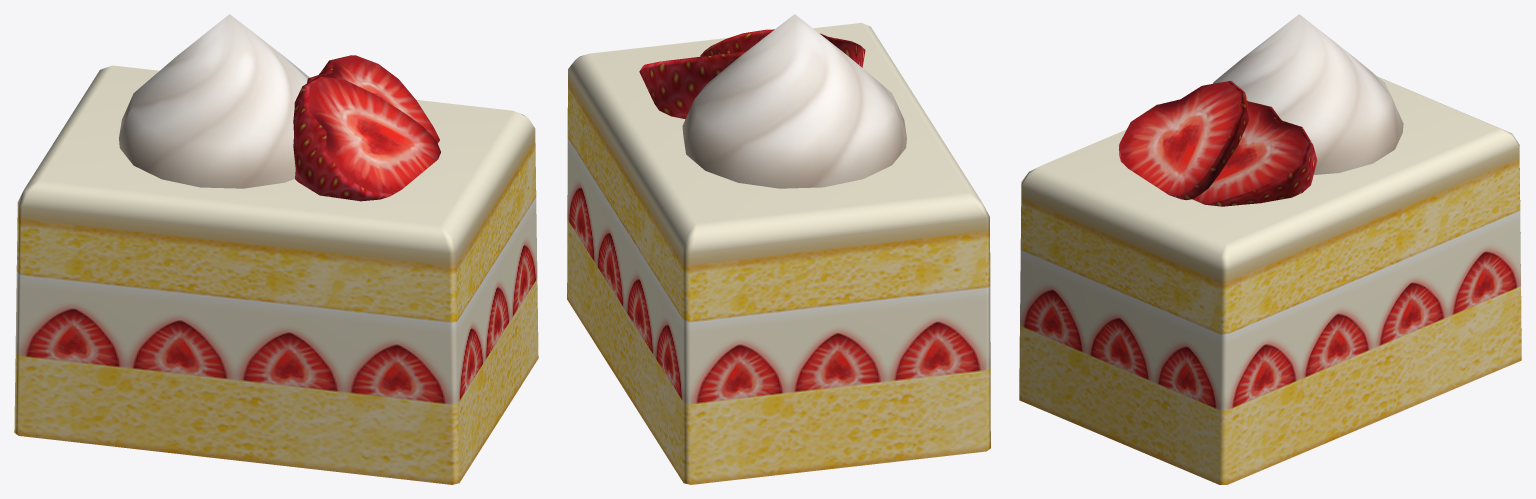
The model's file is 009-Cakes01.FBX.
3 renders of one model, left to right at view 1: azimuth 30°, elevation 25°; view 2: azimuth 150°, elevation 25°; view 3: azimuth 270°, elevation 25°, orthographic. The views are drawn at different scales.
Parts seen in each view (by area): view 1: 009-Cakes01; view 2: 009-Cakes01; view 3: 009-Cakes01.
Part boxes in pixels (x1,y1,x2,y2): 009-Cakes01: (14,14,538,484); 009-Cakes01: (567,14,990,484); 009-Cakes01: (1019,14,1521,484).
Size of the model in its own units: 14.85 by 11.43 by 14.85.
